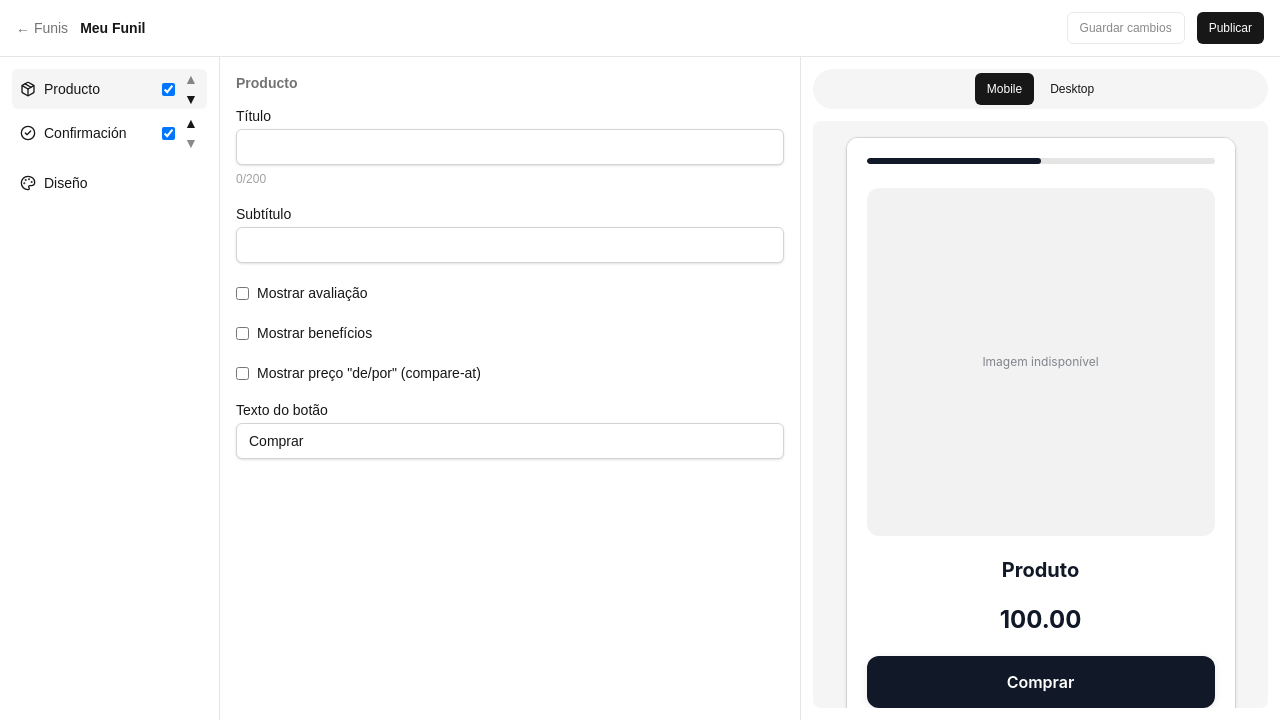
it: FunnelBuilder › conflito de revisão mostra o modal com as duas opções, sem merge automático
Type "!" into the field labelled "Texto do botão" at point(510, 441), box [236,423,784,459]
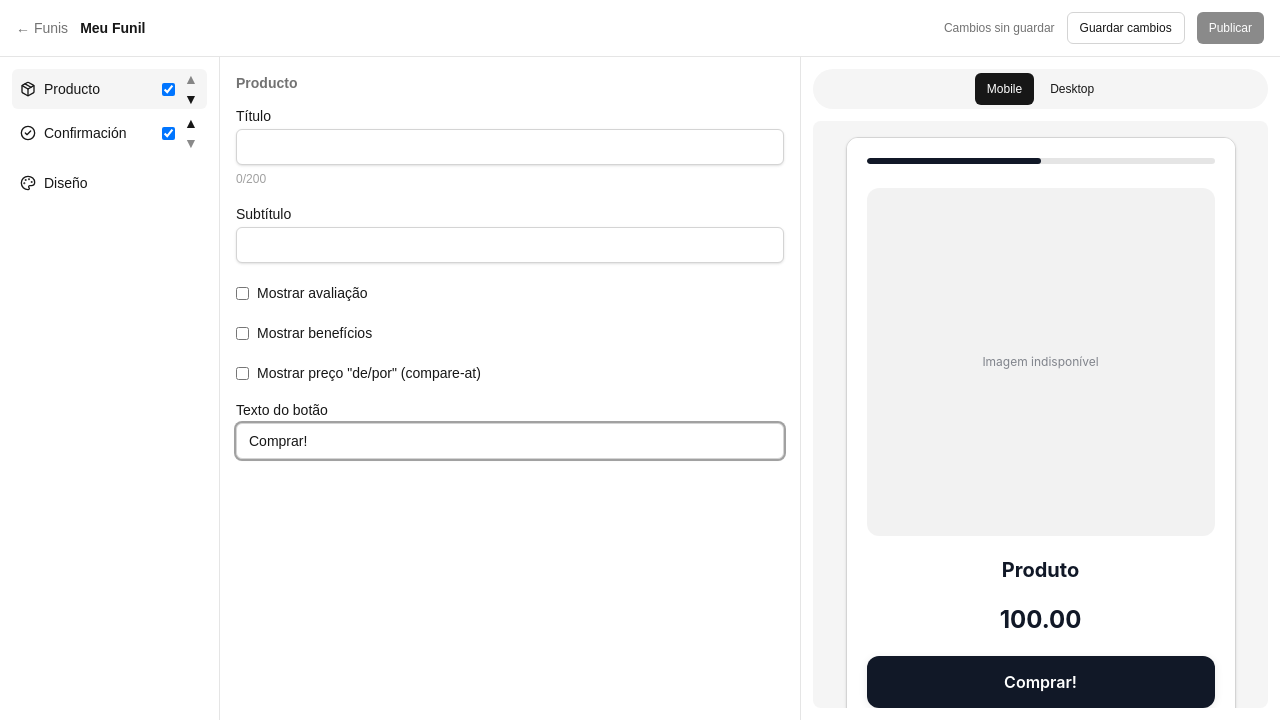
Click the button "Guardar cambios" at point(1126, 28), box [1067,12,1185,44]
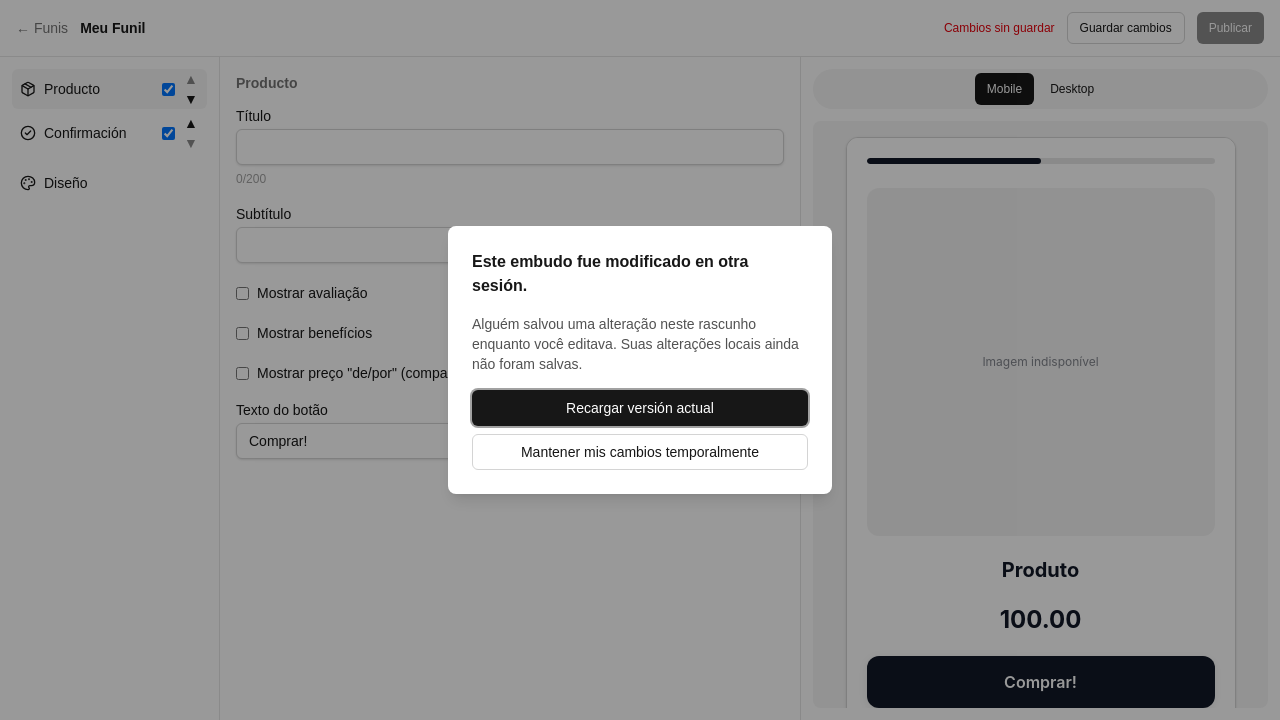
Check: the heading "Este embudo fue modificado en otra sesión." is shown, box [472,253,748,294]
Check: the button "Recargar versión actual" is shown, box [472,390,808,426]
Check: the button "Mantener mis cambios temporalmente" is shown, box [472,434,808,470]
